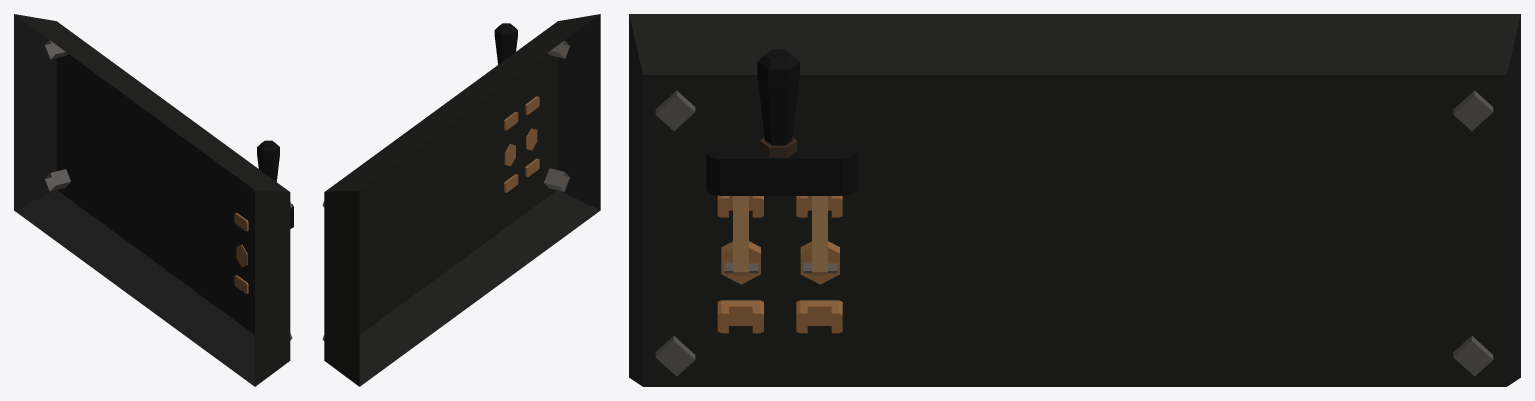
The model's file is Palanca.fbx.
3 renders of one model, left to right at view 1: azimuth 30°, elevation 25°; view 2: azimuth 150°, elevation 25°; view 3: azimuth 270°, elevation 25°, orthographic. The views are drawn at different scales.
Visible parts, largest first — view 1: telephone-wall-victorian.001, Cylinder.073, Cube.033; view 2: telephone-wall-victorian.001, Cylinder.073, Cube.034, Cube.033; view 3: telephone-wall-victorian.001, Cube.032, Cylinder.073, Cube.034, Cube.033, Cube.031, Cube.030, Cylinder.071, Cylinder.072.
Boxes of the visible parts, x1,y1,x2,y2 form: telephone-wall-victorian.001: [14, 14, 292, 386]; Cylinder.073: [257, 140, 279, 181]; Cube.033: [234, 213, 248, 293]; telephone-wall-victorian.001: [322, 14, 600, 386]; Cylinder.073: [494, 23, 517, 64]; Cube.034: [525, 96, 539, 177]; Cube.033: [504, 112, 518, 192]; telephone-wall-victorian.001: [629, 14, 1520, 386]; Cube.032: [706, 144, 856, 195]; Cylinder.073: [757, 49, 799, 157]; Cube.034: [717, 195, 763, 333]; Cube.033: [796, 196, 842, 333]; Cube.031: [733, 196, 748, 275]; Cube.030: [812, 196, 827, 275]; Cylinder.071: [800, 241, 839, 284]; Cylinder.072: [721, 241, 760, 284].
Size of the model in its own units: 17.77 by 54.38 by 118.
